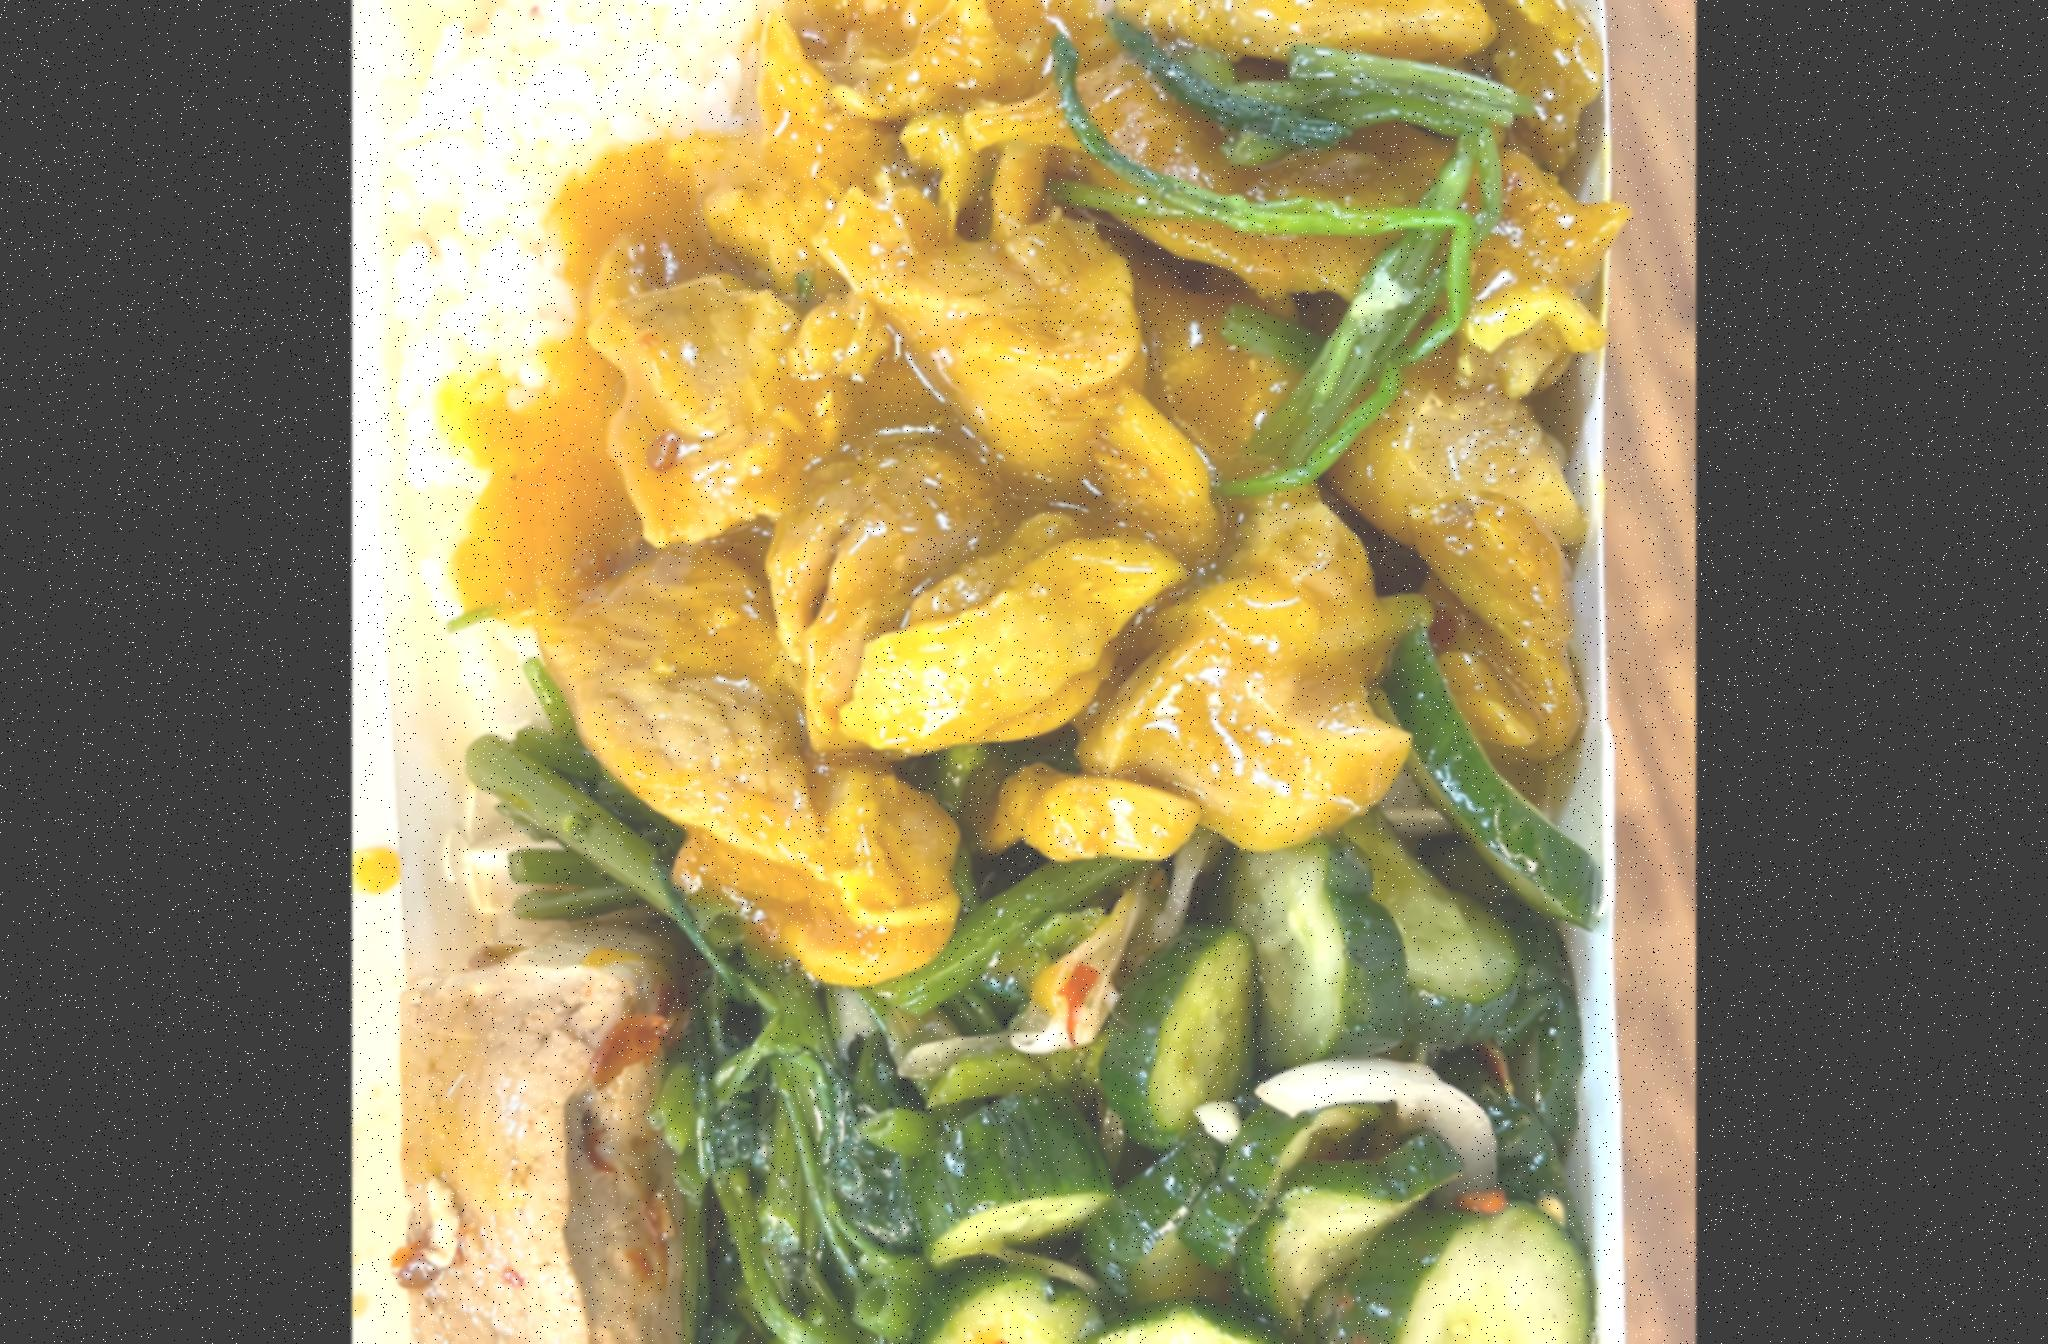curry chicken: (448, 0, 1558, 946)
side dish: (373, 0, 1657, 1344), (915, 832, 1579, 1344), (654, 894, 957, 1344), (370, 904, 672, 1344)
white rice: (382, 0, 1169, 751)
